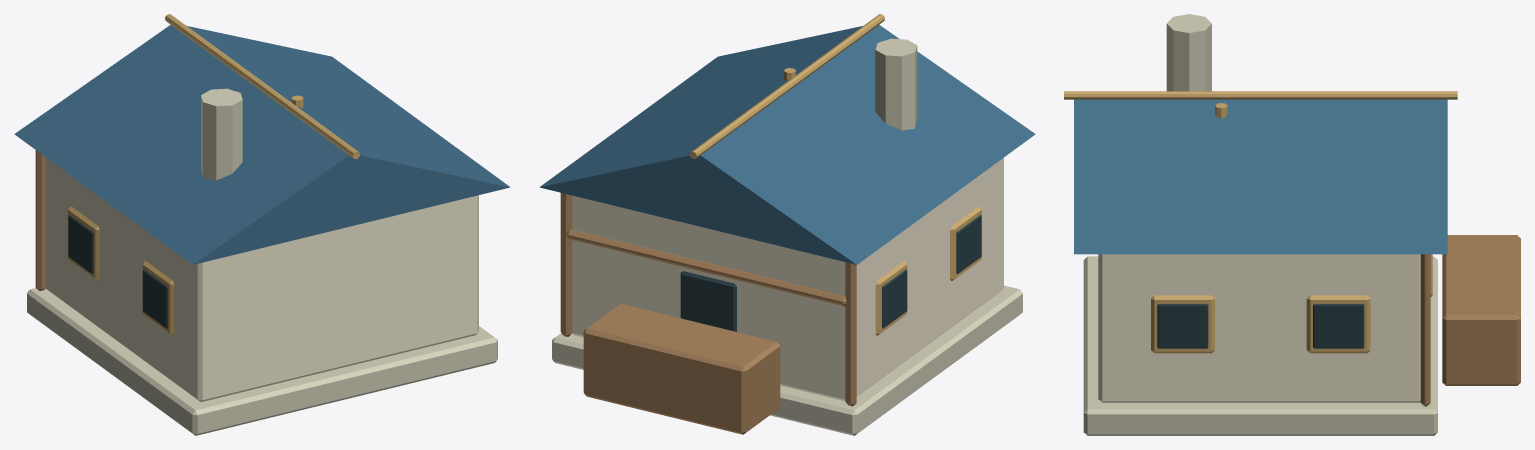
File: level_03.glb
3 renders of one model, left to right at view 1: azimuth 30°, elevation 25°; view 2: azimuth 150°, elevation 25°; view 3: azimuth 270°, elevation 25°, orthographic. The views are drawn at different scales.
Parts seen in each view (by area): view 1: workshop — level 03; view 2: workshop — level 03; view 3: workshop — level 03.
Part boxes in pixels (bbox=[...]): workshop — level 03: bbox=[14, 14, 510, 435]; workshop — level 03: bbox=[539, 14, 1035, 435]; workshop — level 03: bbox=[1064, 14, 1520, 435].
Bounding box in the file's own units: 3.9 × 3.34 × 4.64.
